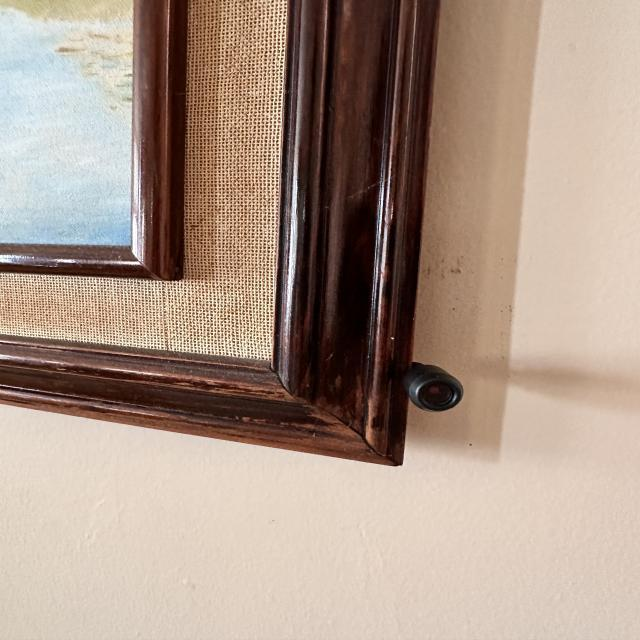hidden camera: (413, 375, 465, 414)
